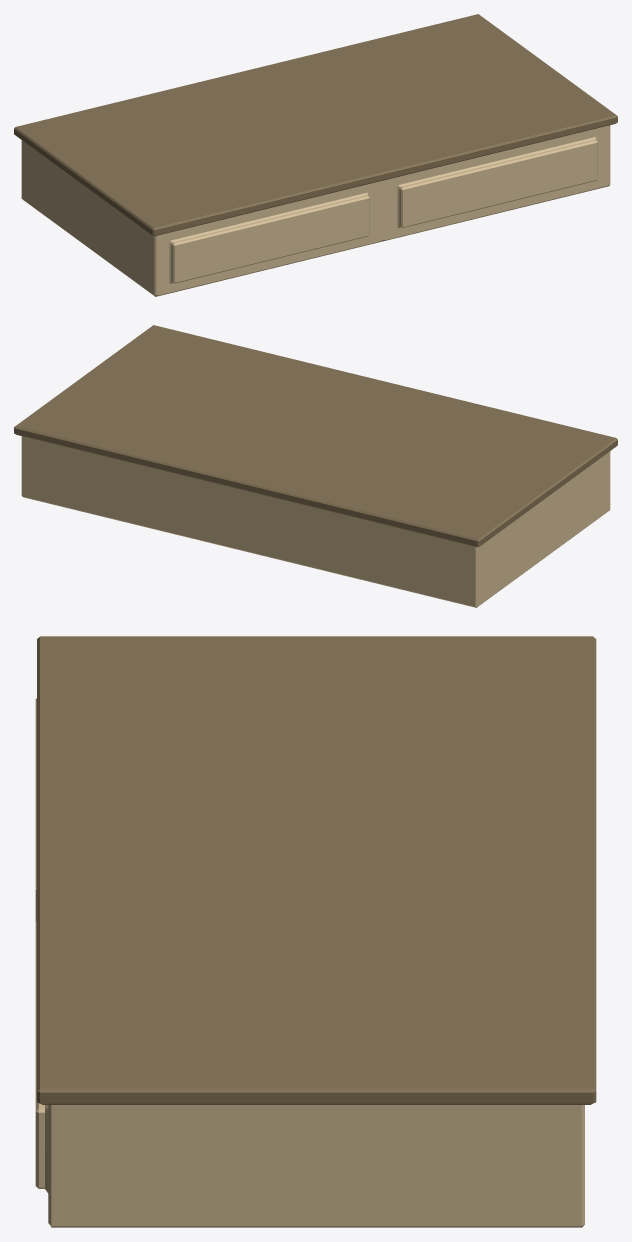
The model's file is drawerBlank.fbx.
The picture shows the model from 3 angles, top to bottom: view 1: azimuth 30°, elevation 25°; view 2: azimuth 150°, elevation 25°; view 3: azimuth 270°, elevation 25°; orthographic projection. The views are drawn at different scales.
Visible parts, largest first — view 1: drawerDouble4; view 2: drawerDouble4; view 3: drawerDouble4.
Boxes of the visible parts, x1=… form: drawerDouble4: x1=14, y1=14, x2=617, y2=296; drawerDouble4: x1=14, y1=325, x2=617, y2=607; drawerDouble4: x1=35, y1=636, x2=596, y2=1227.
Bounding box in the file's own units: 98.38 × 14.53 × 51.3.
